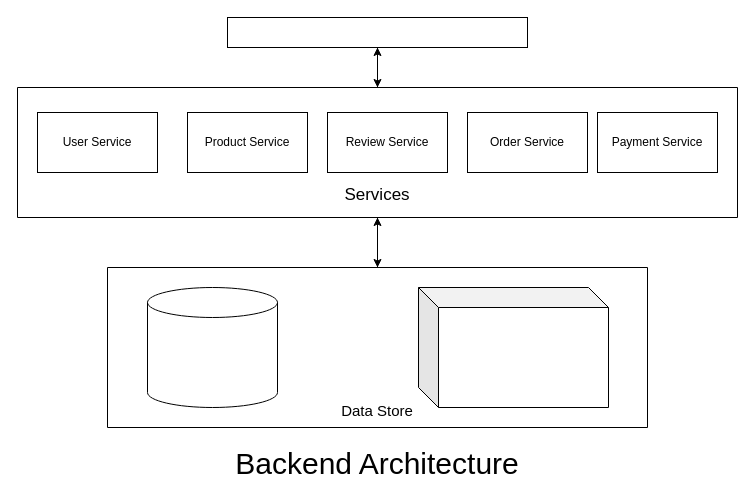
The diagram is 755 pixels wide and 499 high, and some of its shapes have lost their labels. The centre of each missing label's shape, as x and y in pixels:
"Cloudinary File Storage Cloud" belongs at point 513,347.
"MongoDB Cloud" belongs at point 212,347.
"REST APIs" belongs at point 377,32.
